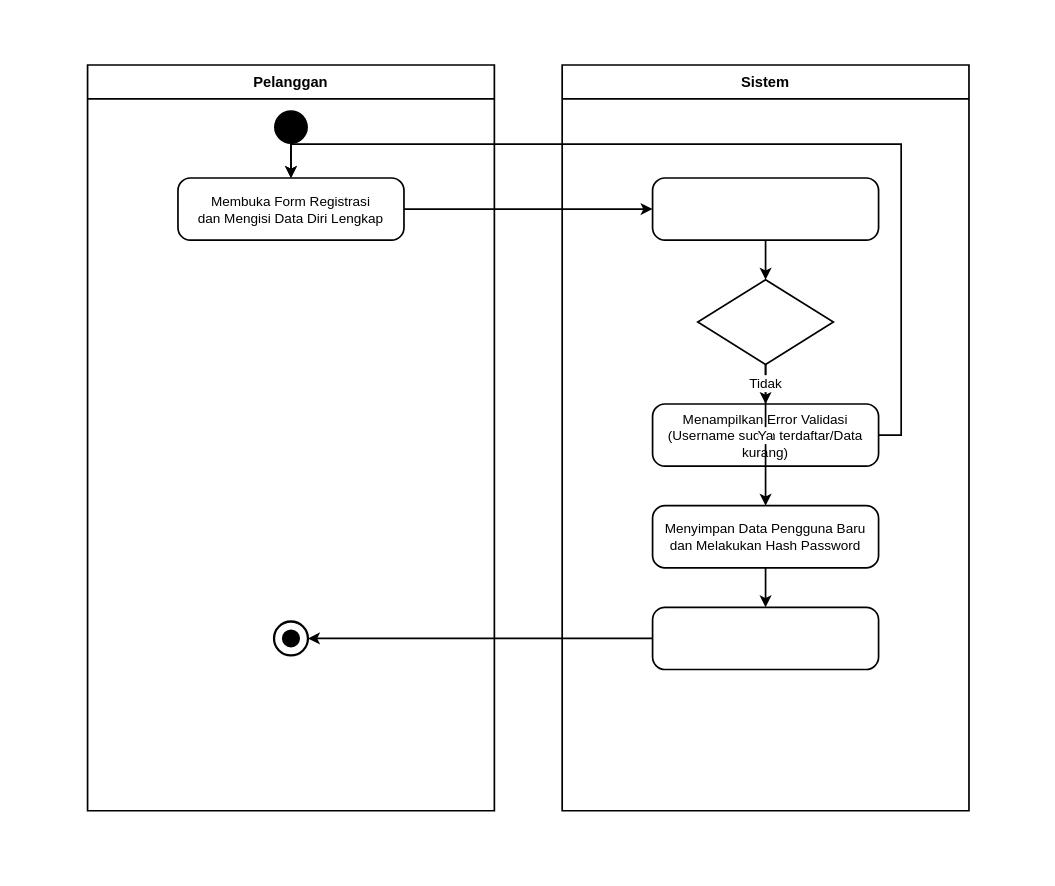
The diagram is 1055 pixels wide and 886 high, and some of its shapes have lost their labels. Each missing label, with the centre of its shape:
"Memvalidasi Format Username, Sandi, dan Ketersediaan Username di DB" belongs at [765,208].
"Mengarahkan Pelanggan ke Halaman Login" belongs at [765,638].
"Valid & Unik?" belongs at [765,321].
